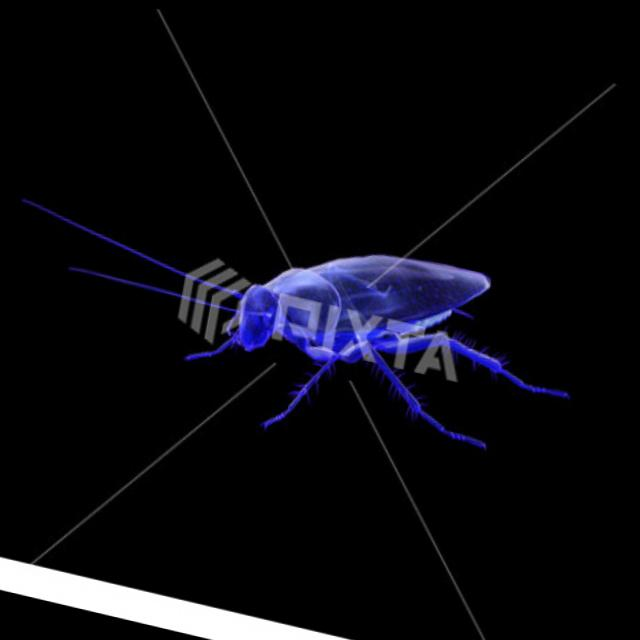Cockroach: (0, 144, 597, 505)
